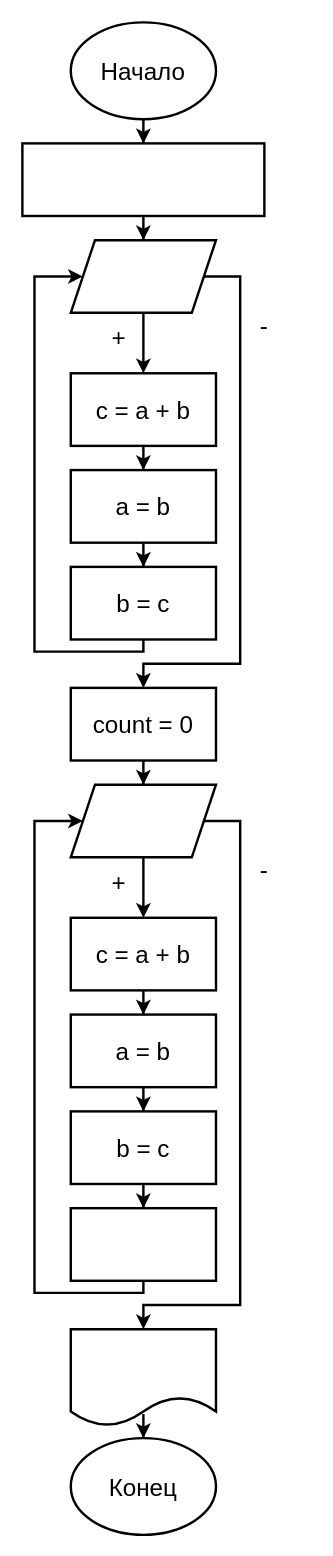
This 333x1556 diagram has some shape labels left out. Each missing label, with the centre of its shape:
a = 1, b = 1, c = 0: the point at 143,179
c < 1000: the point at 143,275
c < 9999: the point at 143,820
count: the point at 143,1377
count++: the point at 143,1243
